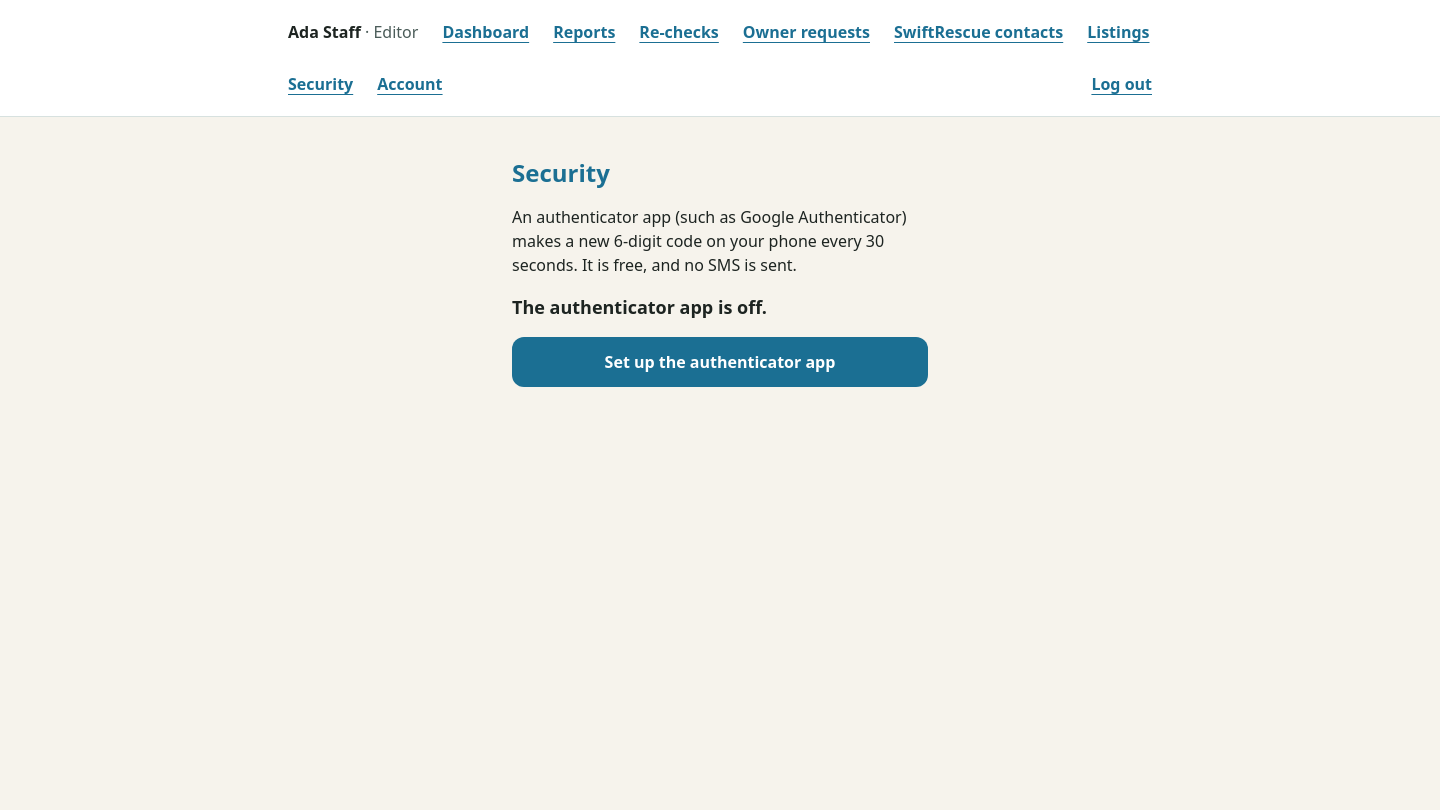
Scenario: switching it on › on 409 when starting says: The authenticator app is already switched on.
Expected: the heading "Security" is shown, x1=512 y1=156 x2=610 y2=189
Click the button "Set up the authenticator app": (720, 362) x1=512 y1=337 x2=928 y2=387
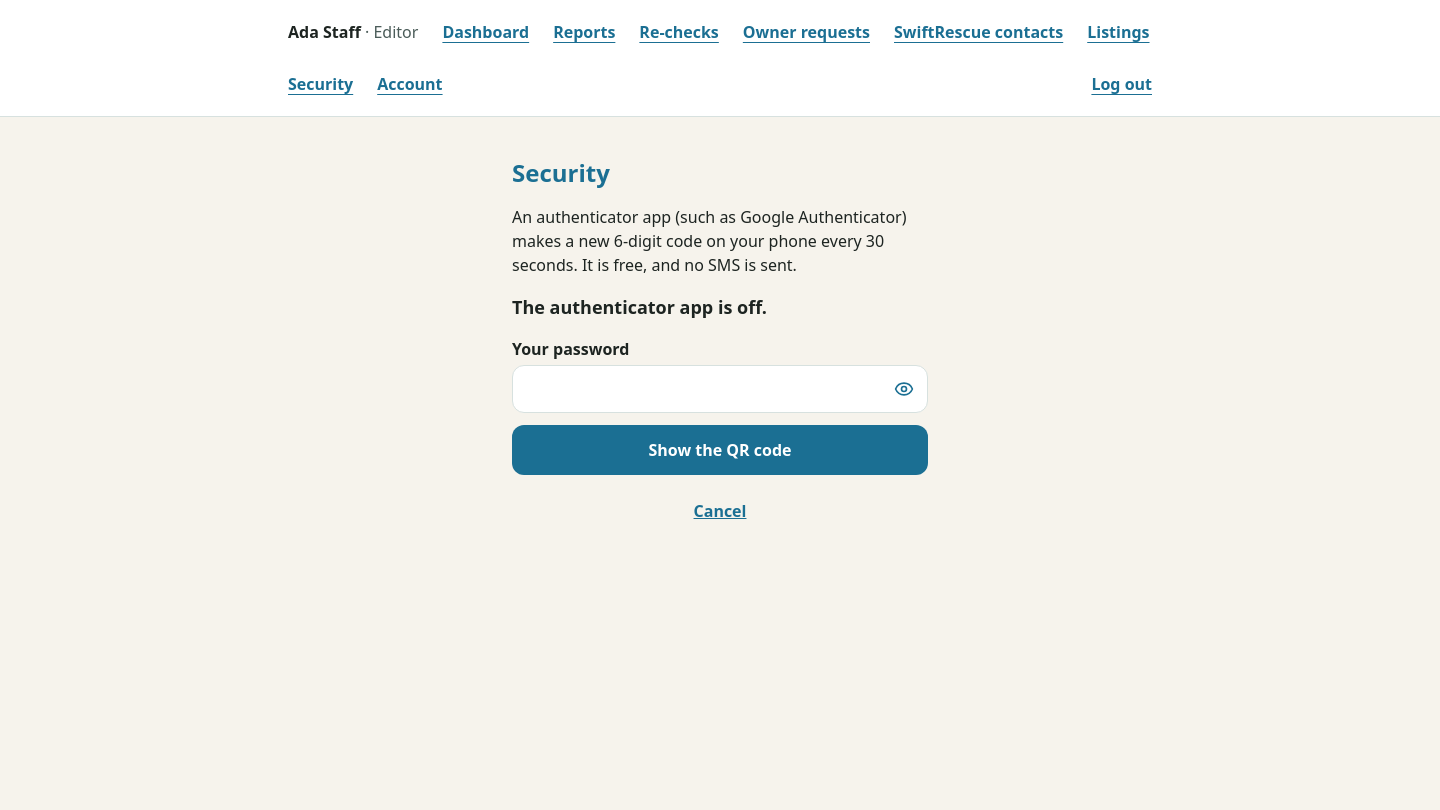
In the password field labelled "Your password": (720, 389) x1=512 y1=365 x2=928 y2=413, type "my-password"
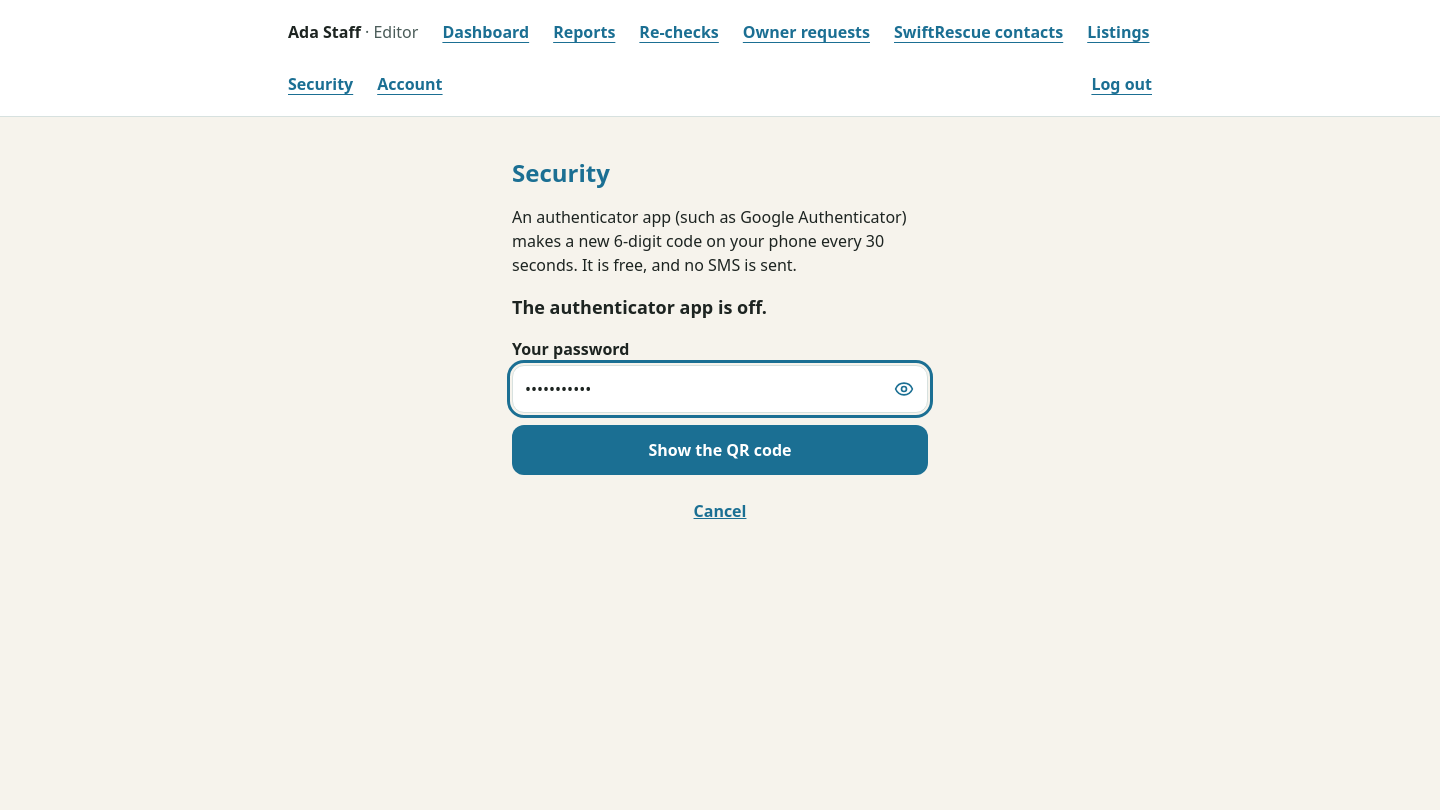
Click the button "Show the QR code": (720, 450) x1=512 y1=425 x2=928 y2=475
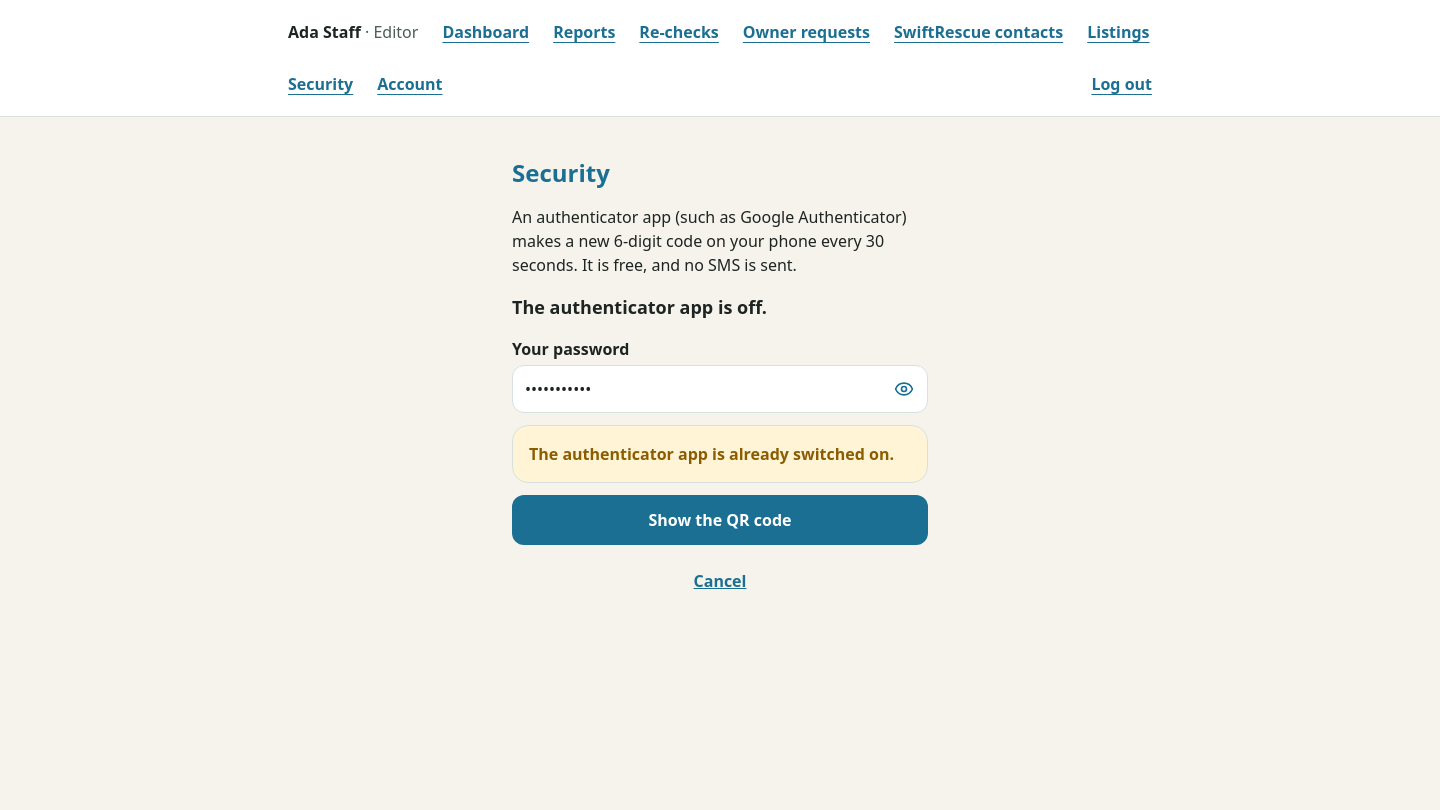
Expected: the text "The authenticator app is already switched on." is shown, x1=512 y1=425 x2=928 y2=483
